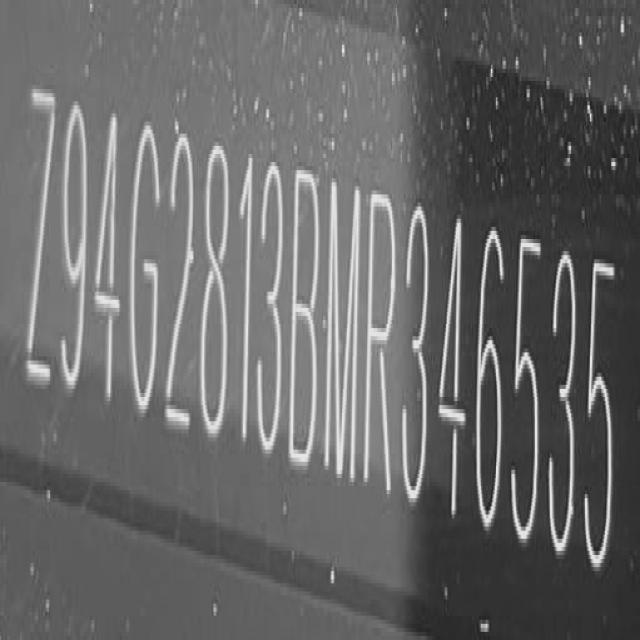1: (237, 146, 252, 448)
2: (166, 124, 196, 432)
3: (402, 198, 432, 510), (549, 244, 577, 568), (257, 161, 285, 462)
4: (94, 100, 125, 407), (438, 205, 467, 518)
5: (588, 250, 620, 582), (512, 229, 542, 560)
6: (474, 221, 502, 541)
8: (202, 137, 232, 442)
9: (60, 91, 90, 398)
B: (292, 163, 322, 475)
G: (128, 116, 162, 432)
M: (326, 176, 361, 484)
R: (365, 184, 398, 494)
Z: (24, 78, 56, 393)
